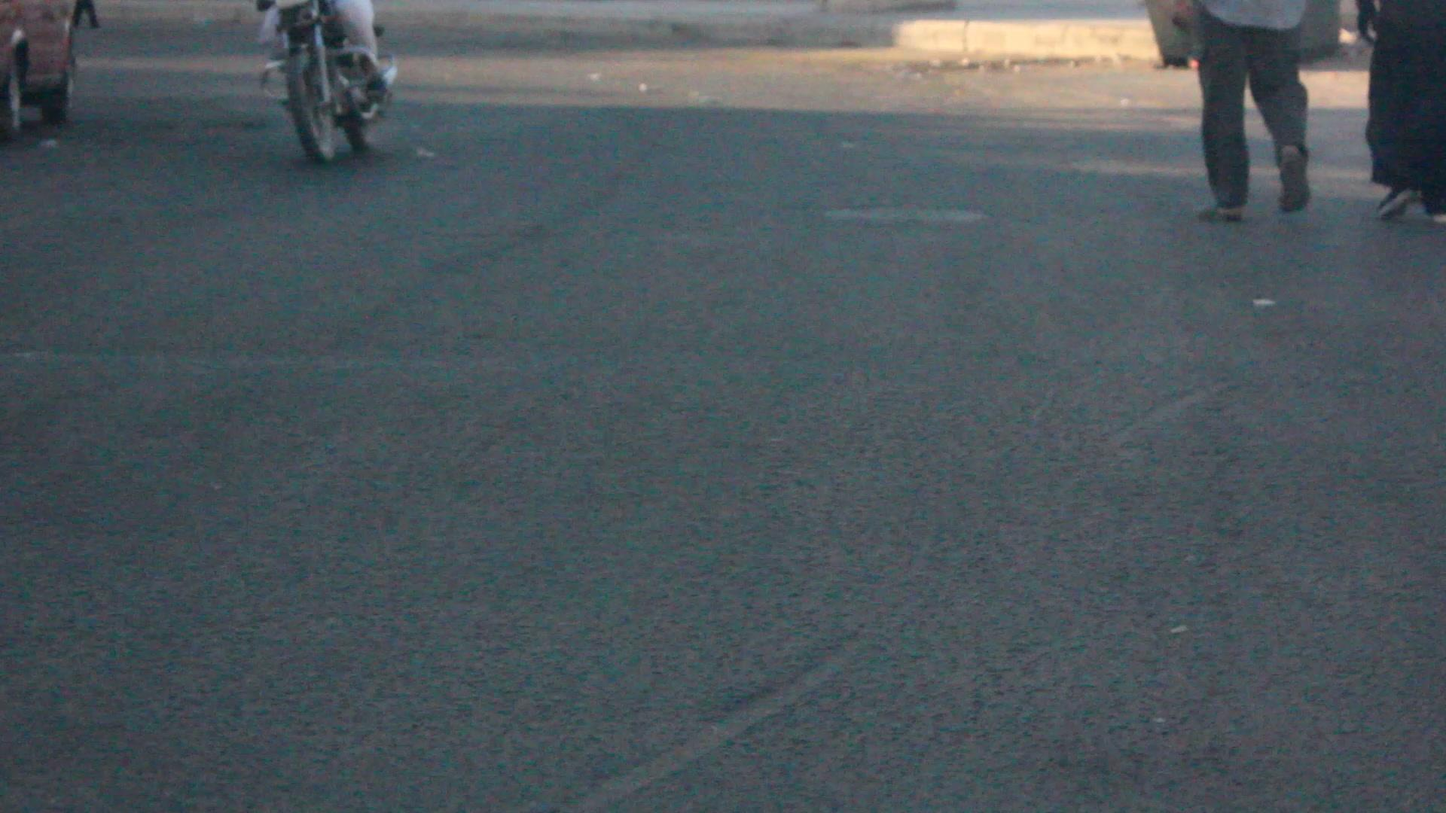Bump: (0, 335, 1446, 538)
